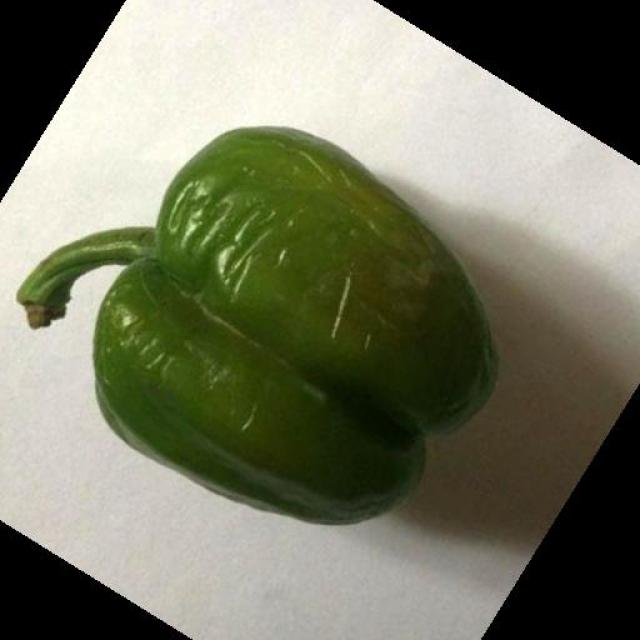Stale_Capsicum: (99, 124, 535, 519)
